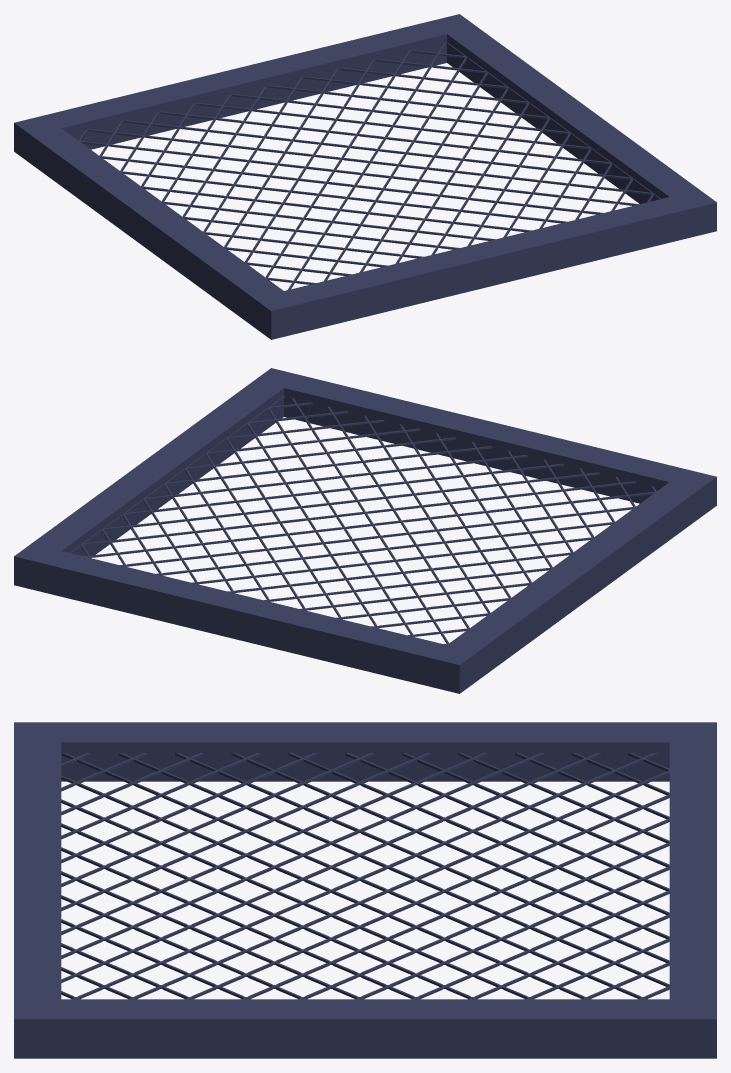
Rendered from FBX_Grillage_1.fbx.
3 renders of one model, top to bottom at view 1: azimuth 30°, elevation 25°; view 2: azimuth 150°, elevation 25°; view 3: azimuth 270°, elevation 25°, orthographic. The views are drawn at different scales.
Parts seen in each view (by area): view 1: Cube.001, Plane.003; view 2: Cube.001, Plane.003; view 3: Cube.001, Plane.003.
Boxes of the visible parts, box(x1,y1,x2,y2) form: Cube.001: box(14, 14, 716, 339); Plane.003: box(79, 42, 660, 289); Cube.001: box(14, 368, 716, 693); Plane.003: box(70, 396, 656, 644); Cube.001: box(14, 722, 716, 1058); Plane.003: box(61, 753, 669, 999).
Bounding box in the file's own units: 72677 × 4497 × 72677.
